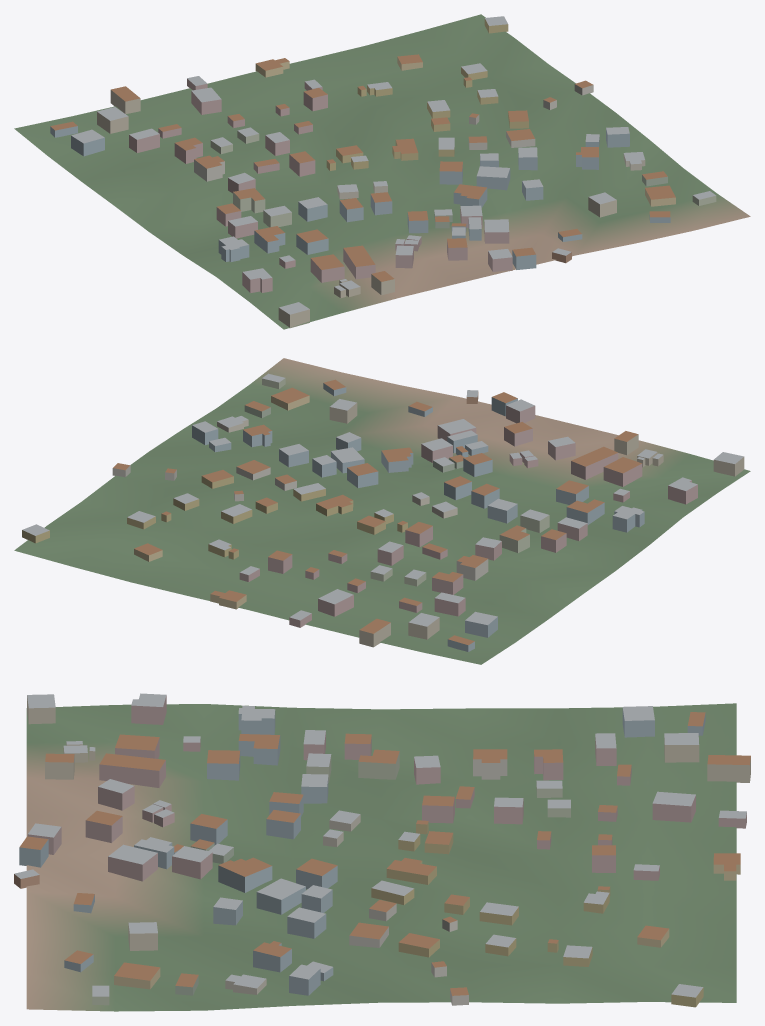
3 views of the same model, one above another, from view 1: azimuth 30°, elevation 25°; view 2: azimuth 150°, elevation 25°; view 3: azimuth 270°, elevation 25° (orthographic). The views are drawn at different scales.
Parts seen in each view (by area): view 1: Lo; view 2: Lo; view 3: Lo.
Boxes of the visible parts, <box> form: Lo: <box>14,14,750,329</box>; Lo: <box>14,358,750,664</box>; Lo: <box>14,693,750,1011</box>.
Bounding box in the file's own units: 260 × 10.48 × 266.
